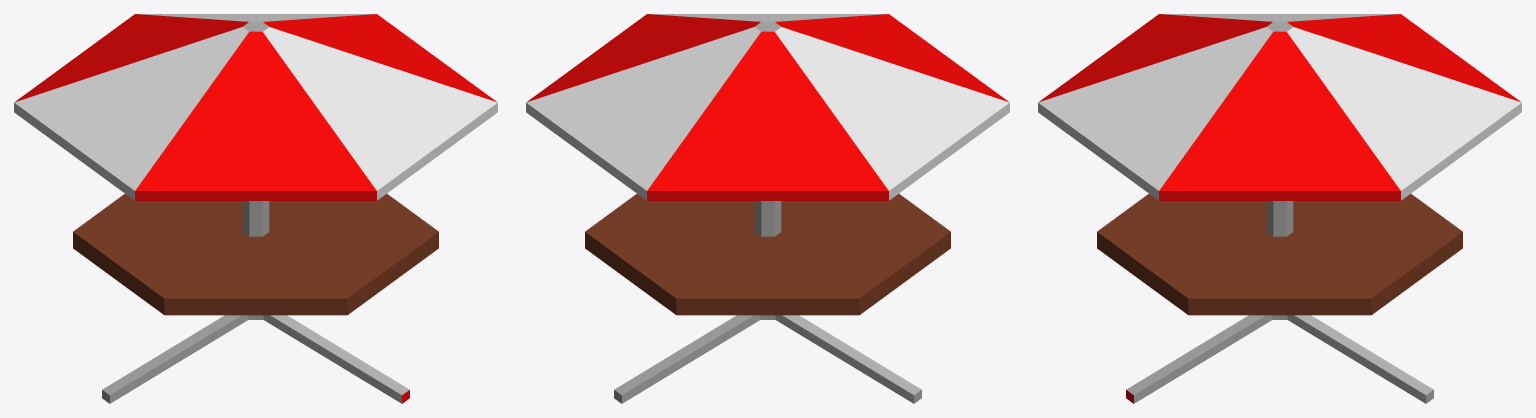
The model's file is Table.fbx.
3 renders of one model, left to right at view 1: azimuth 30°, elevation 25°; view 2: azimuth 150°, elevation 25°; view 3: azimuth 270°, elevation 25°, orthographic.
Visible parts, largest first — view 1: Cylinder; view 2: Cylinder; view 3: Cylinder.
Boxes of the visible parts, box(x1,y1,x2,y2) form: Cylinder: box(14, 14, 497, 403); Cylinder: box(526, 14, 1009, 403); Cylinder: box(1038, 14, 1521, 403).
Size of the model in its own units: 635 by 565 by 734.
